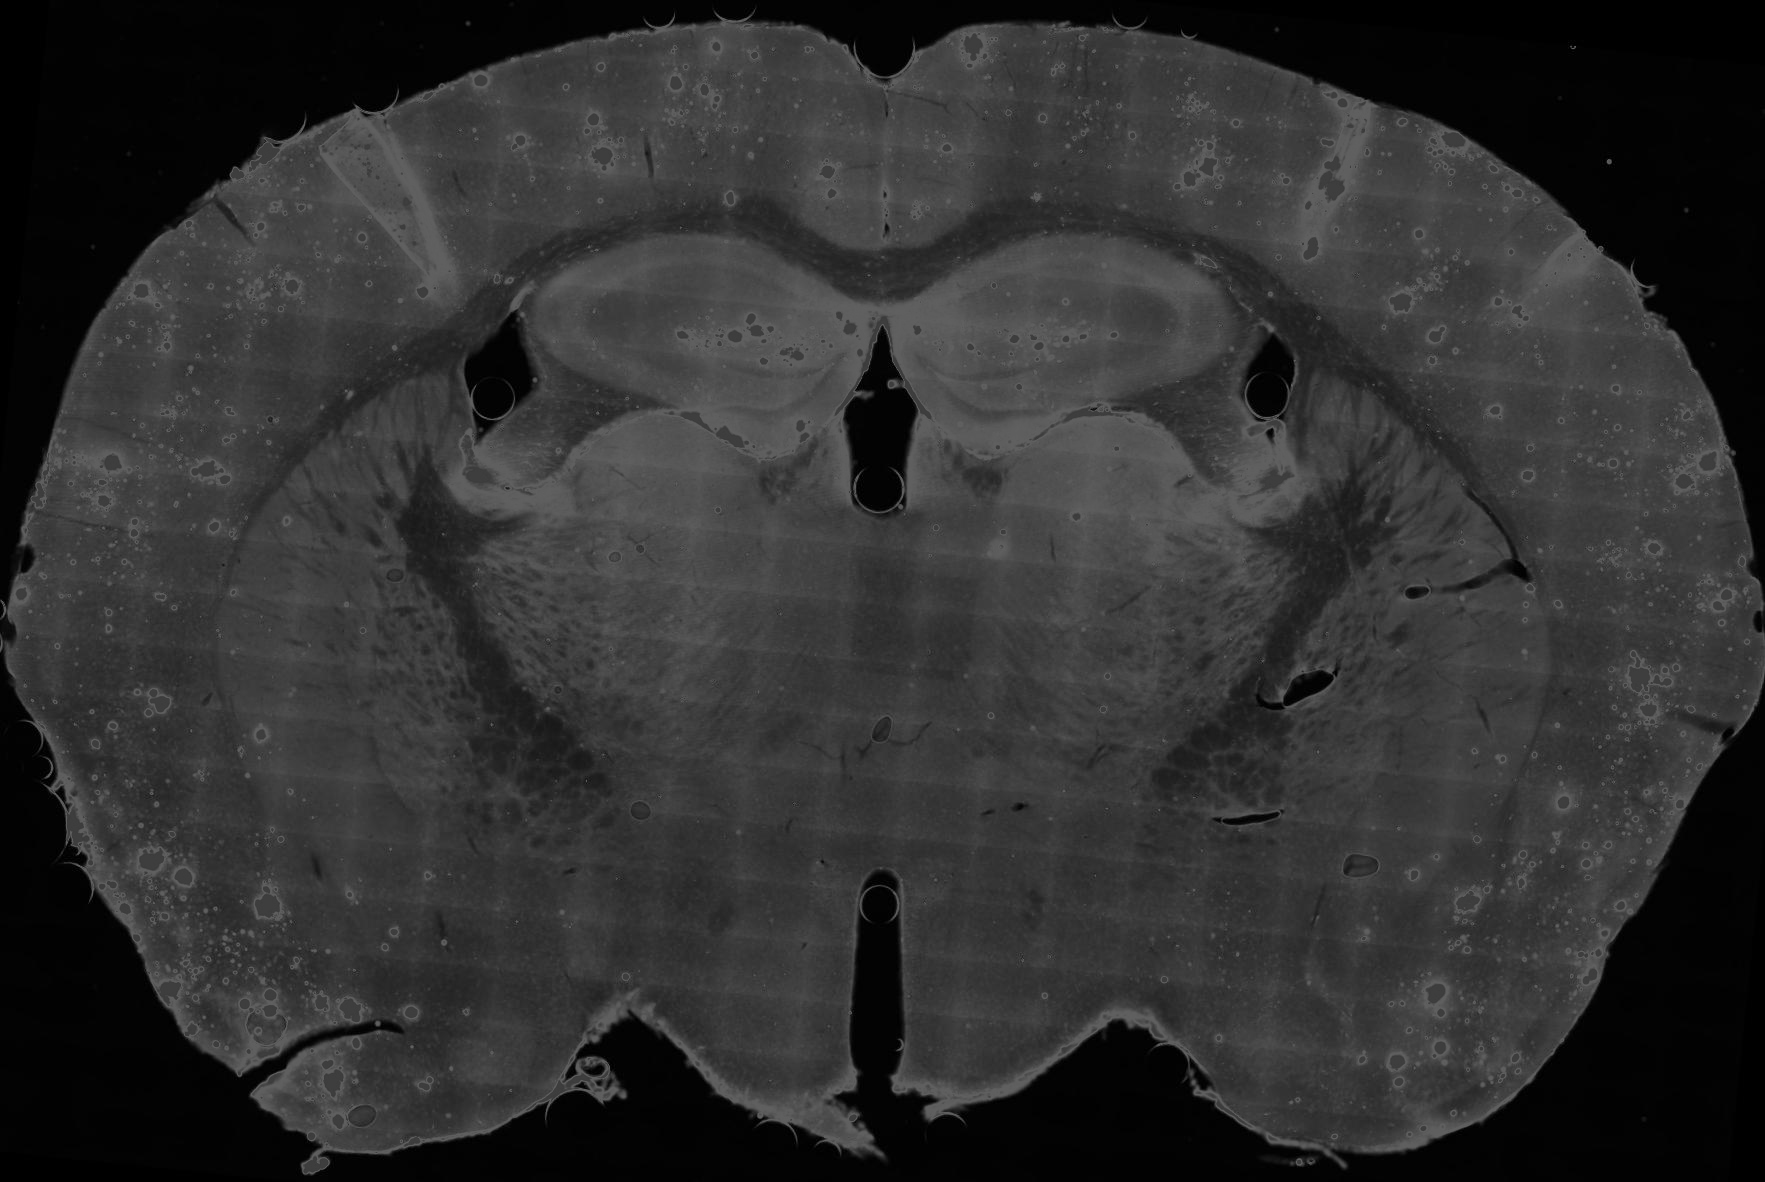Cerebral nuclei: (1305, 364, 1554, 952), (212, 365, 452, 905)
Hippocampal formation: (532, 236, 884, 454), (882, 233, 1229, 454)
Hypothalamus: (584, 761, 877, 1156), (877, 776, 1196, 1125)
Retrosplenial area: (777, 32, 886, 252), (885, 44, 1000, 251)
Somatosensory area: (26, 30, 662, 551), (1119, 32, 1729, 541)
Thalamus: (877, 408, 1307, 818), (466, 408, 880, 818)
